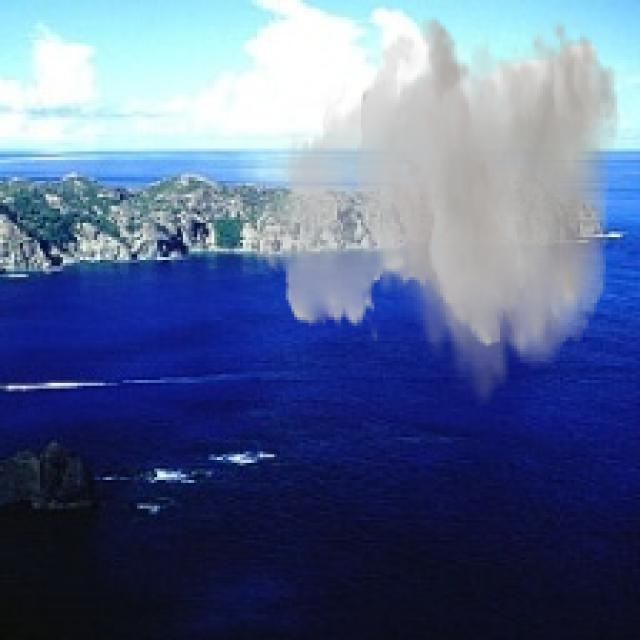smoke: (237, 14, 620, 412)
